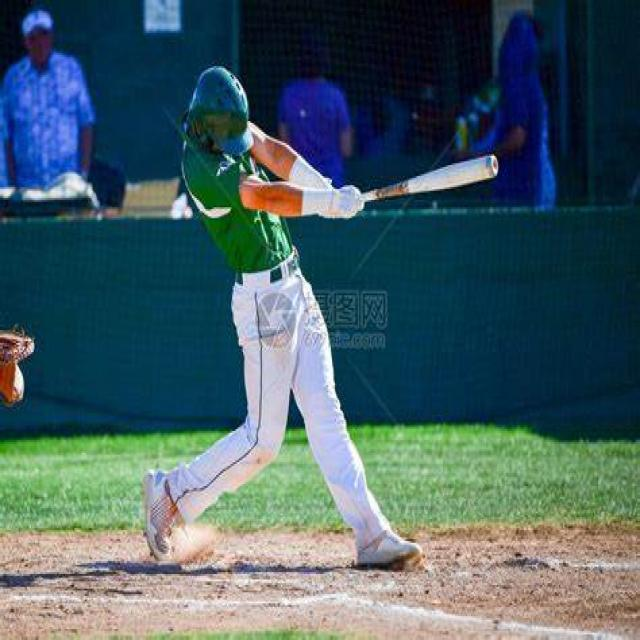stand: (185, 64, 379, 598)
